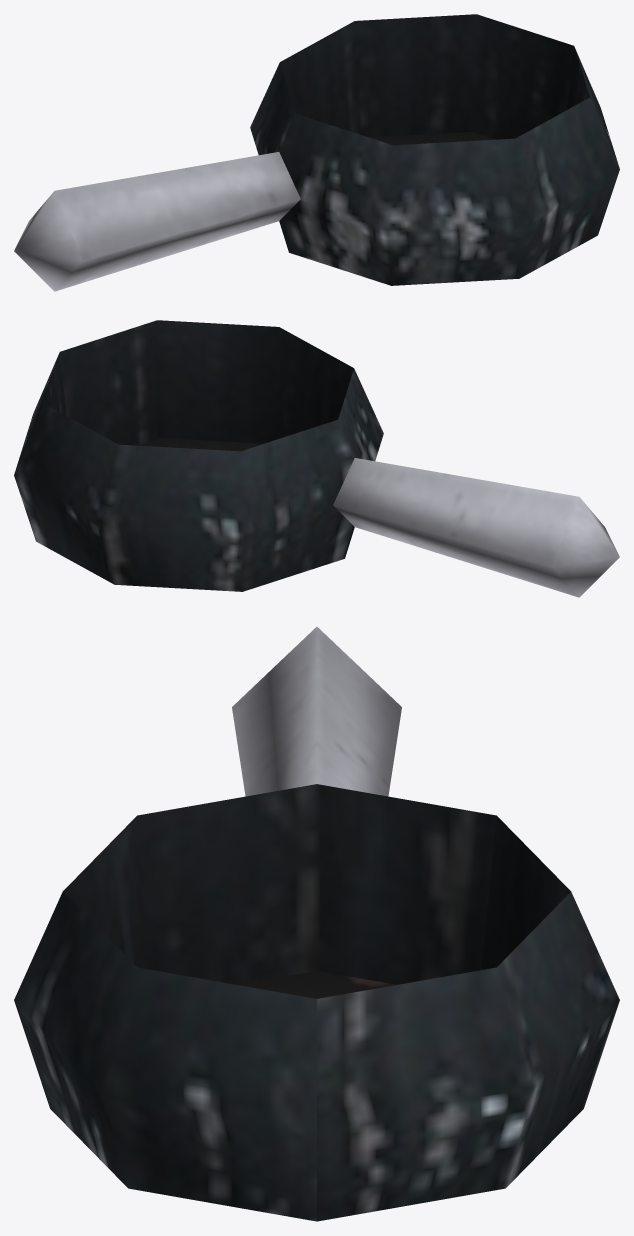
The model's file is Tea_7.FBX.
The picture shows the model from 3 angles, top to bottom: view 1: azimuth 30°, elevation 25°; view 2: azimuth 150°, elevation 25°; view 3: azimuth 270°, elevation 25°; orthographic projection. The views are drawn at different scales.
Parts seen in each view (by area): view 1: tea7; view 2: tea7; view 3: tea7.
Boxes of the visible parts, left/top/right/bottom form: tea7: left=14, top=14, right=619, bottom=291; tea7: left=14, top=320, right=619, bottom=597; tea7: left=14, top=627, right=619, bottom=1221.
Size of the model in its own units: 12.17 by 2.72 by 6.88.
